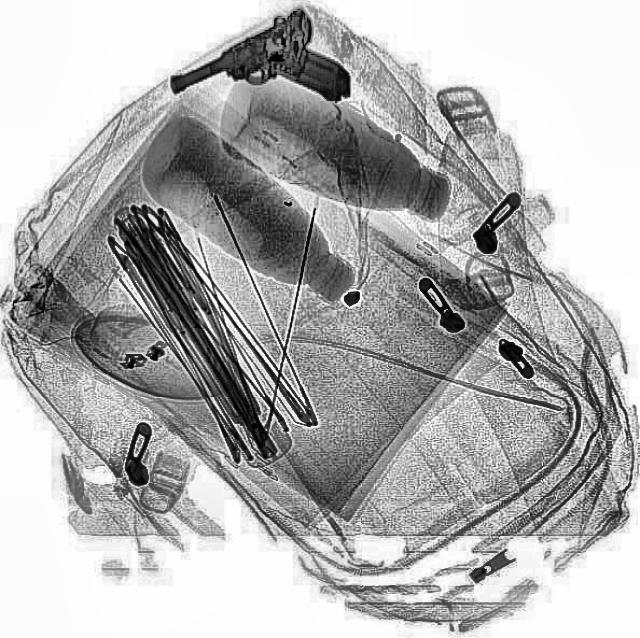Gun: (159, 2, 359, 162)
